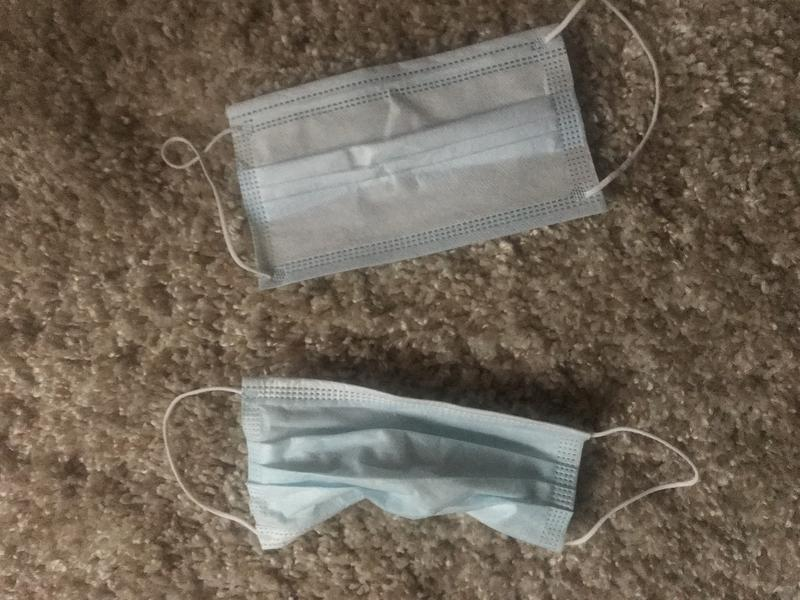medical_mask: (160, 1, 662, 291), (164, 375, 699, 550)
